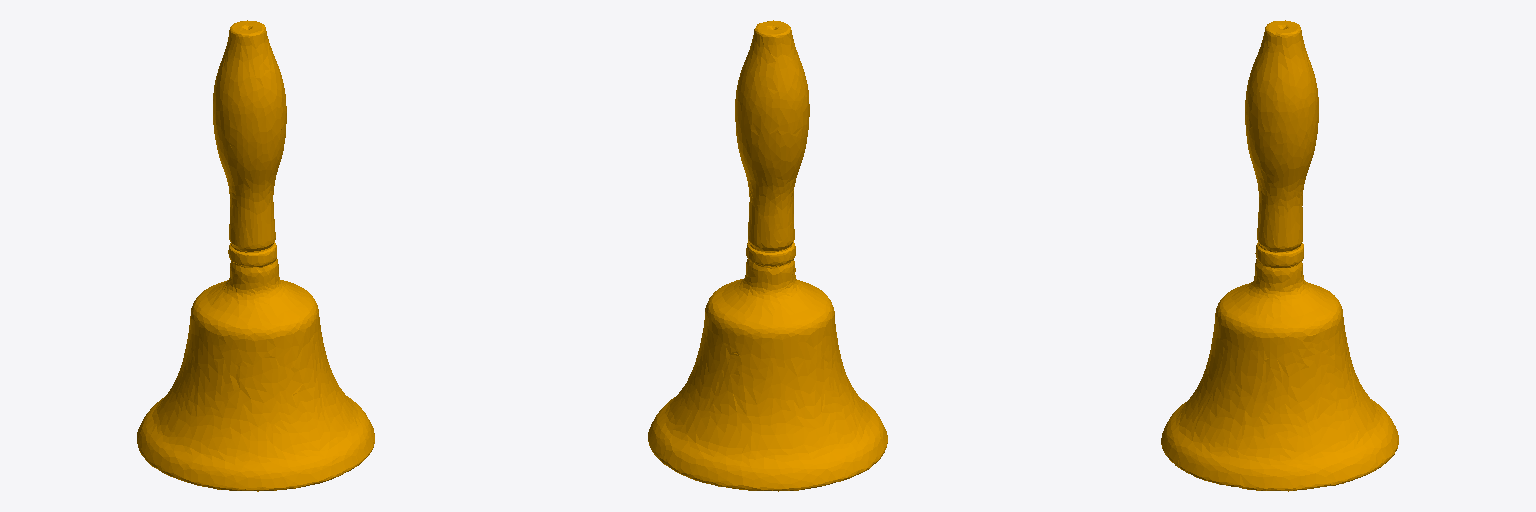
URDF robot description (Cole_Hardware_School_Bell_Solid_Brass_38):
<?xml version="1.0"?>
<robot name="Cole_Hardware_School_Bell_Solid_Brass_38">
  <link name="base_link">
    <contact>
      <lateral_friction value="1.0"/>
      <rolling_friction value="0.0"/>
      <contact_cfm value="0.0"/>
      <contact_erp value="1.0"/>
    </contact>
    <inertial>
      <mass value="0.752931167962"/>
      <inertia ixx="1" ixy="0" ixz="0" iyy="1" iyz="0" izz="1"/>
    </inertial>
    <visual>
      <geometry>
        <mesh filename="Cole_Hardware_School_Bell_Solid_Brass_38_visual.obj"/>
      </geometry>
    </visual>
    <collision>
      <geometry>
        <mesh filename="Cole_Hardware_School_Bell_Solid_Brass_38_collision.obj"/>
      </geometry>
    </collision>
  </link>
</robot>

--- Render facts (derived) ---
The picture shows the robot from 3 angles, left to right: view 1: azimuth 30°, elevation 25°; view 2: azimuth 150°, elevation 25°; view 3: azimuth 270°, elevation 25°; orthographic projection.
Robot: Cole_Hardware_School_Bell_Solid_Brass_38 — 1 links, 0 joints (none); root link base_link; default pose: every joint at zero.
Links seen in each view (by area): view 1: base_link; view 2: base_link; view 3: base_link.
Boxes of the visible links, bbox=[...] form: base_link: bbox=[137, 20, 374, 491]; base_link: bbox=[648, 20, 887, 491]; base_link: bbox=[1161, 20, 1398, 491].
Size in the robot's own frame: 0.083 by 0.083 by 0.1596 metres.
Meshes: 1 distinct files referenced, 1 mesh visuals loaded (1 OBJ).
